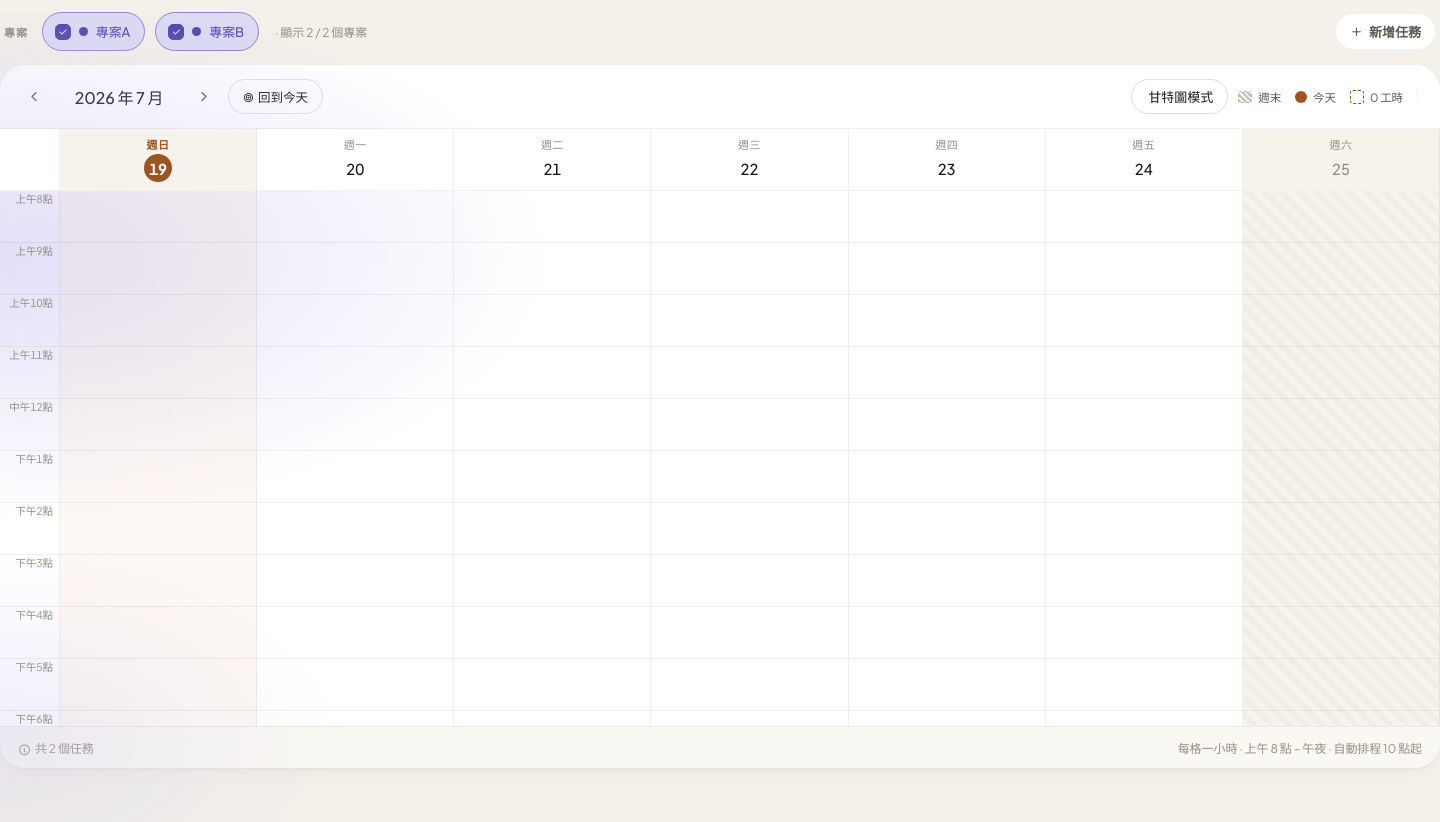
Test case: 行事曆模式切換 › 點「甘特圖模式」切到甘特視圖:鈕變「行事曆模式」,疊圖鈕出現
The width and height of the screenshot is (1440, 822).
Click the button "甘特圖模式". click: (1180, 96)
box: [1131,79,1228,114]
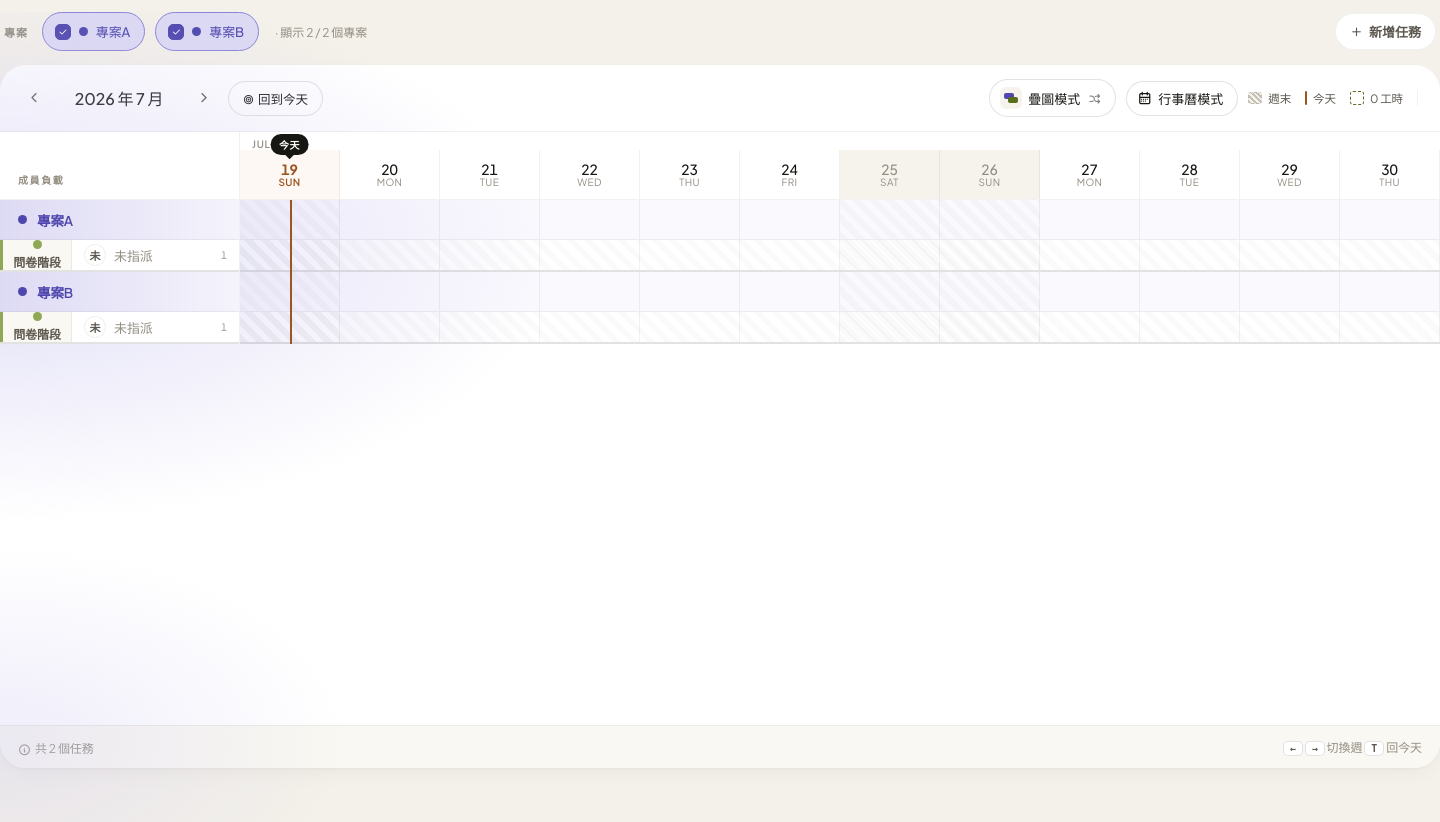
Check: the button "行事曆模式" is shown, box [1126,80,1238,116]
Check: the button "疊圖模式" is shown, box [989,79,1116,117]
